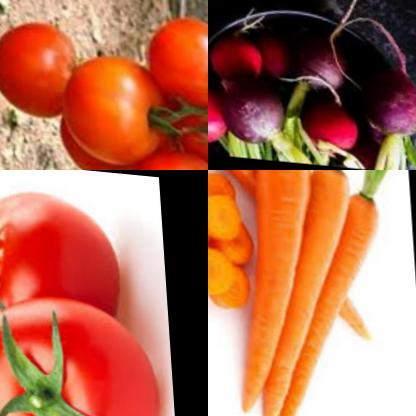carrot: (240, 173, 406, 416), (239, 170, 362, 416), (208, 170, 371, 337), (218, 170, 325, 410), (208, 170, 258, 304)
rediska: (217, 75, 285, 153), (295, 89, 360, 162), (362, 53, 416, 137), (288, 20, 348, 90), (208, 27, 262, 84), (250, 24, 296, 84), (208, 74, 228, 143)
tomato: (0, 175, 128, 374), (0, 276, 164, 416), (54, 44, 169, 162), (0, 13, 79, 122), (138, 1, 208, 109), (113, 135, 208, 170), (178, 72, 208, 163)
